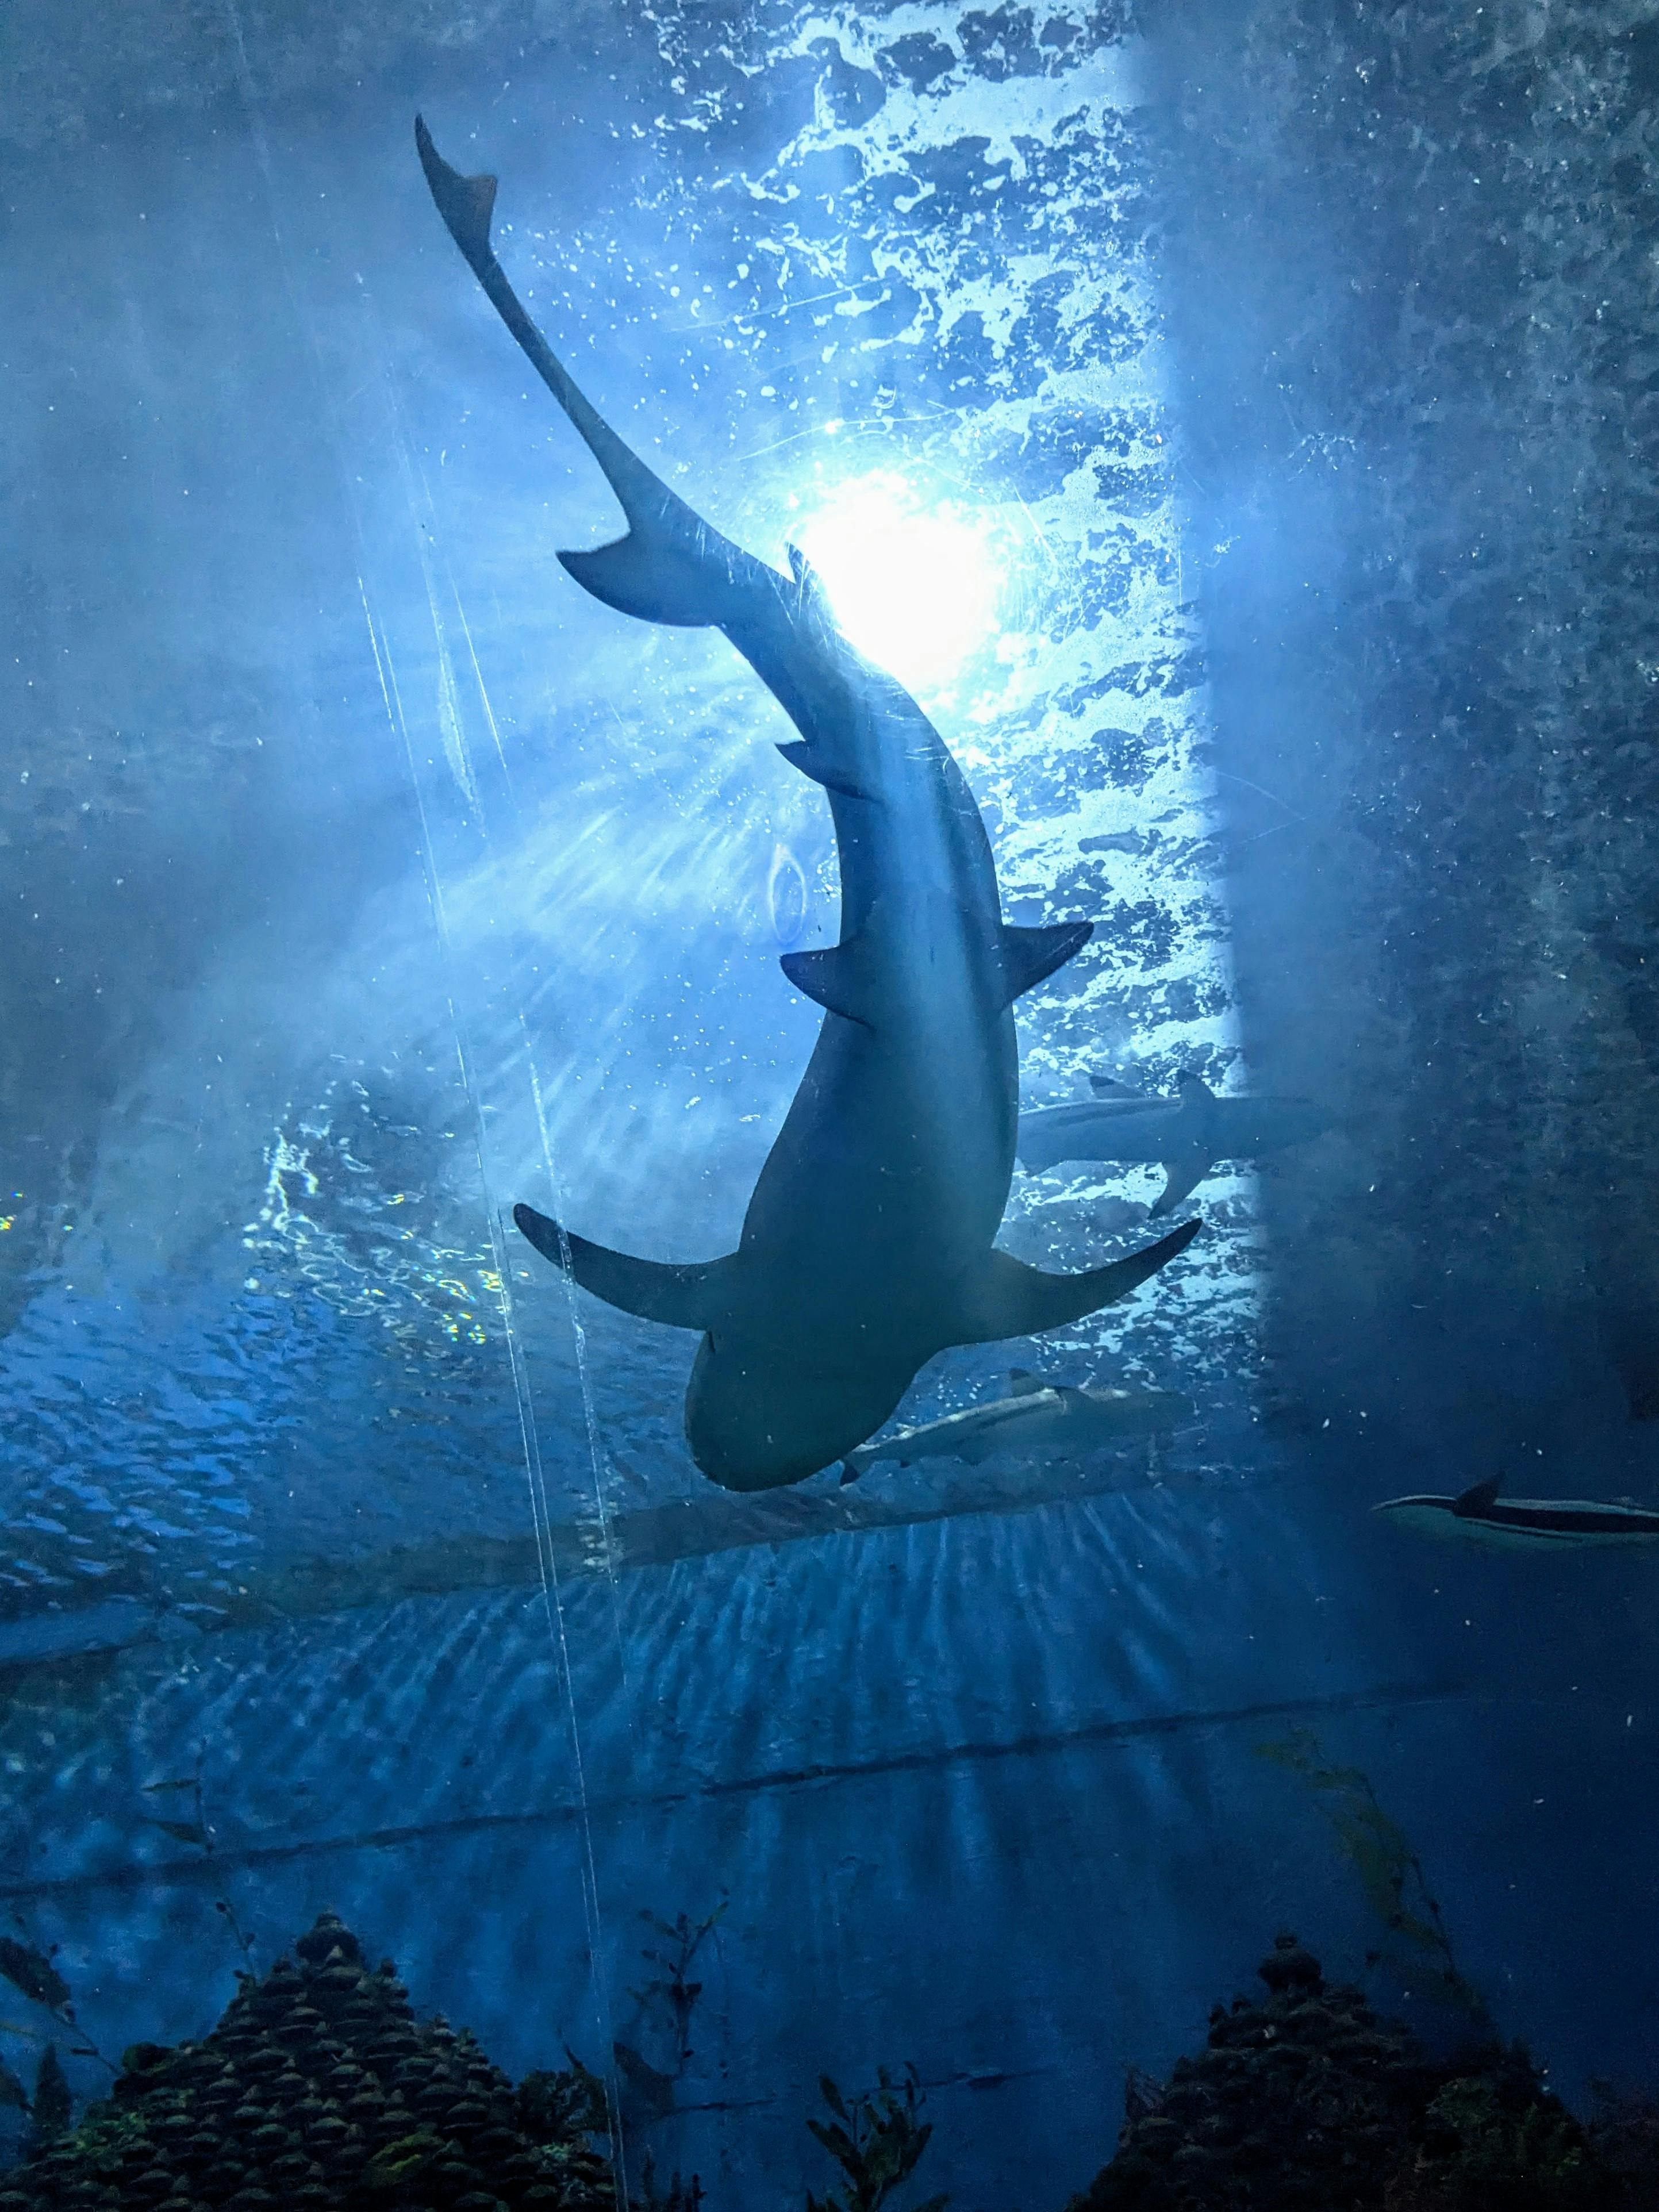shark: (453, 226, 1204, 1500), (1012, 1066, 1347, 1223), (829, 1360, 1201, 1484), (1373, 1460, 1659, 1576)
